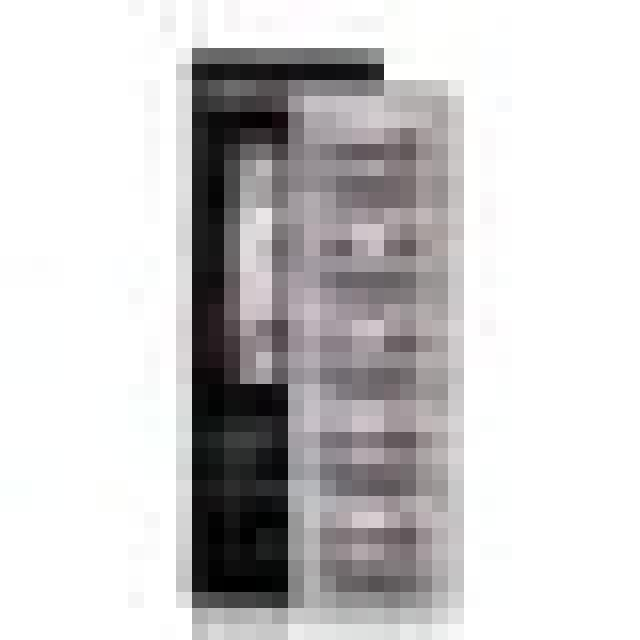Vape-images: (176, 32, 464, 624)
